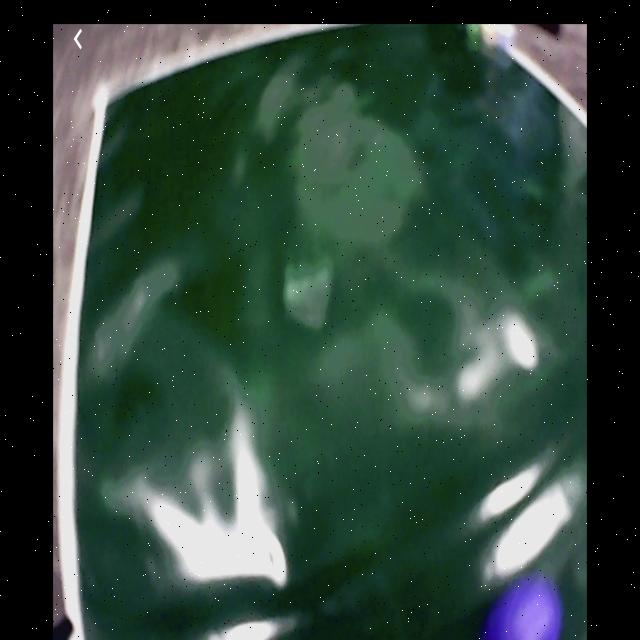ball: (488, 579, 566, 640)
